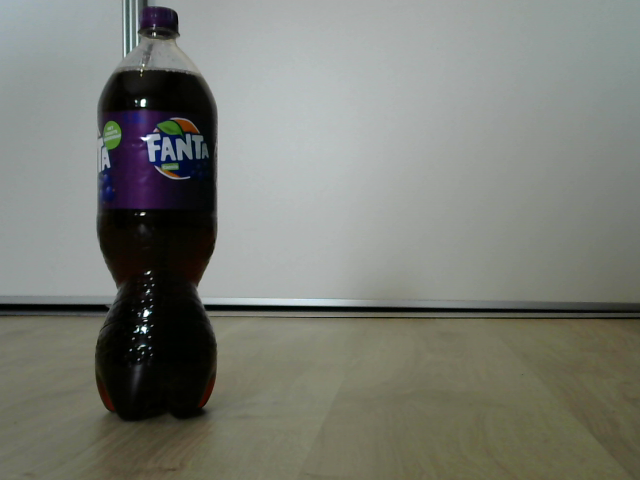bottle: (96, 6, 217, 424)
